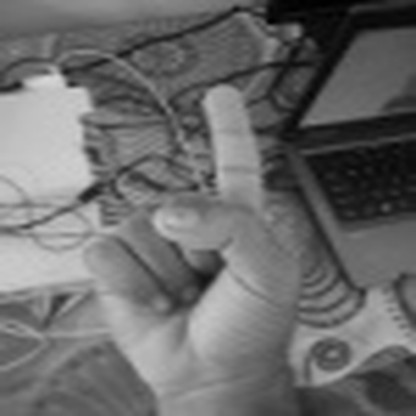d: (93, 66, 290, 415)
